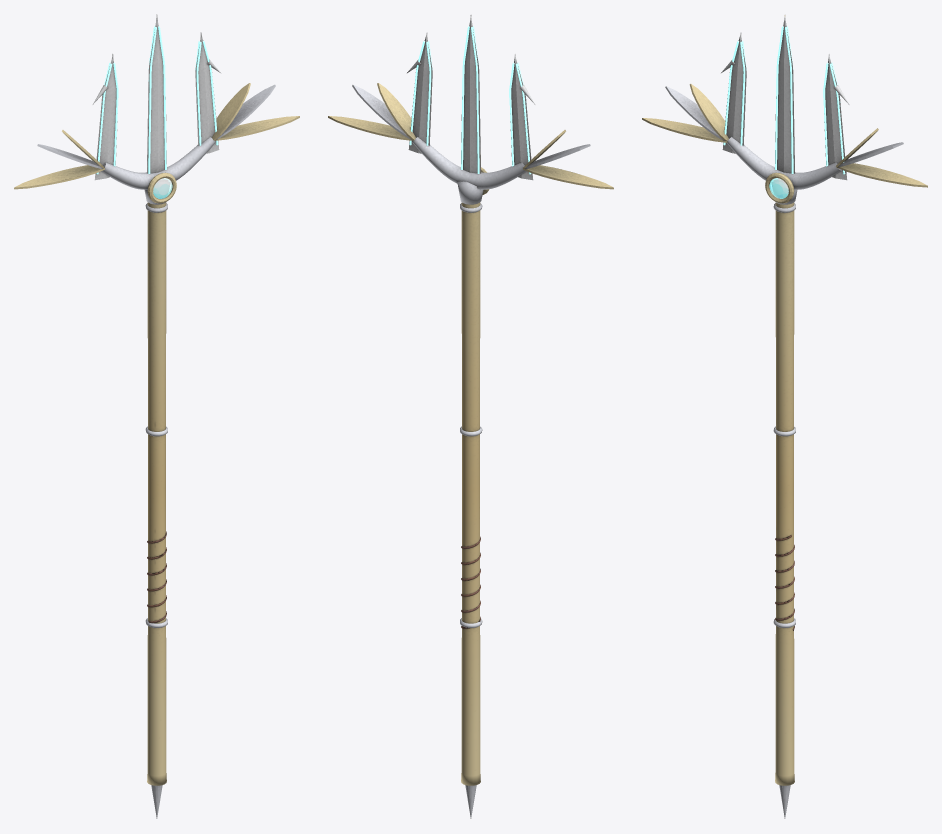
File: arma_lend_garfo_sagrado.glb
3 views of the same model, side by side, from view 1: azimuth 30°, elevation 25°; view 2: azimuth 150°, elevation 25°; view 3: azimuth 330°, elevation 25° (orthographic).
Parts seen in each view (by area): view 1: arma_lend_garfo_sagrado; view 2: arma_lend_garfo_sagrado; view 3: arma_lend_garfo_sagrado.
Part boxes in pixels (x1,y1,x2,y2): arma_lend_garfo_sagrado: (14,14,299,818); arma_lend_garfo_sagrado: (328,14,613,818); arma_lend_garfo_sagrado: (642,14,927,818).
Bounding box in the file's own units: 0.936 × 2.52 × 0.0809.
14 materials, 1 textured.
